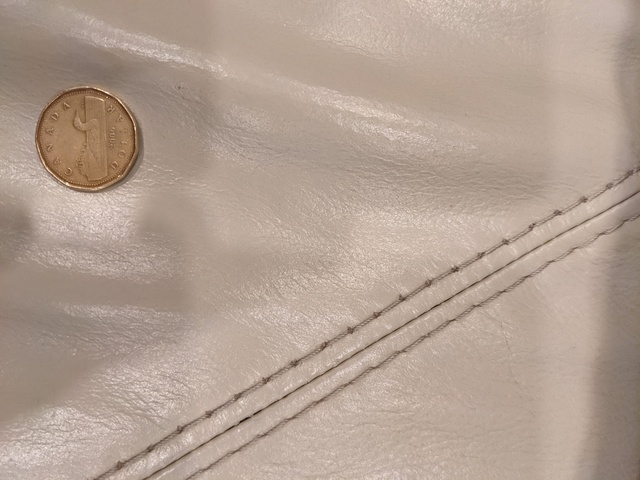loonie: (28, 91, 147, 202)
